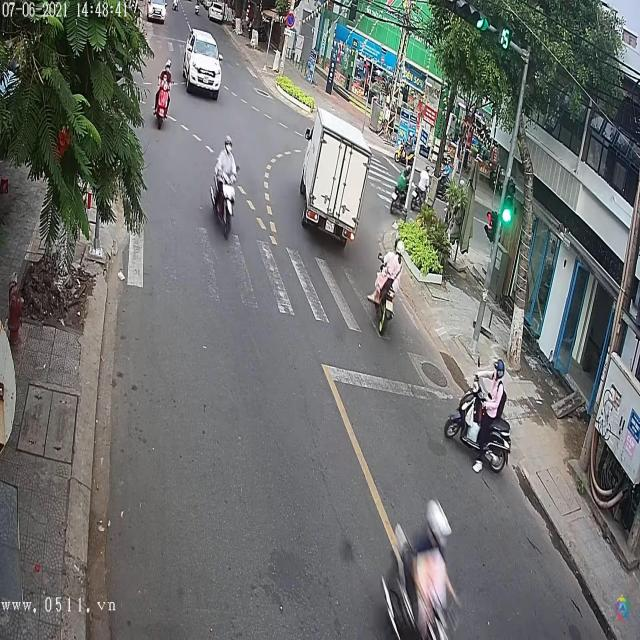car: (184, 29, 224, 100), (148, 2, 167, 24), (210, 5, 226, 23)
motorcycle: (443, 366, 511, 475), (208, 158, 244, 240), (372, 249, 400, 336), (153, 72, 174, 136)
truck: (298, 106, 374, 245)
